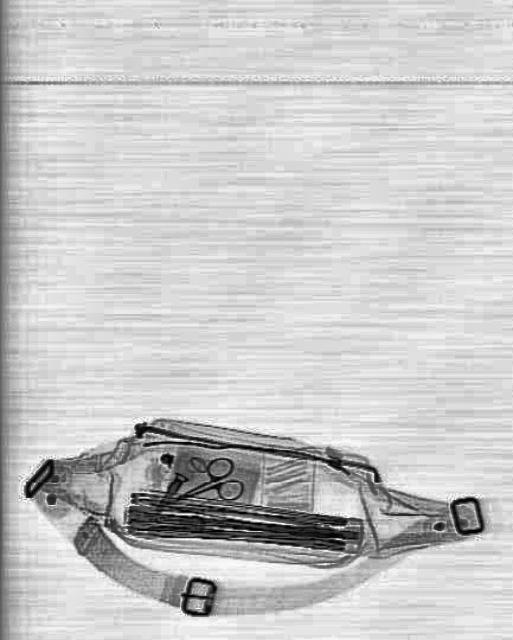Scissors: (162, 451, 244, 525)
